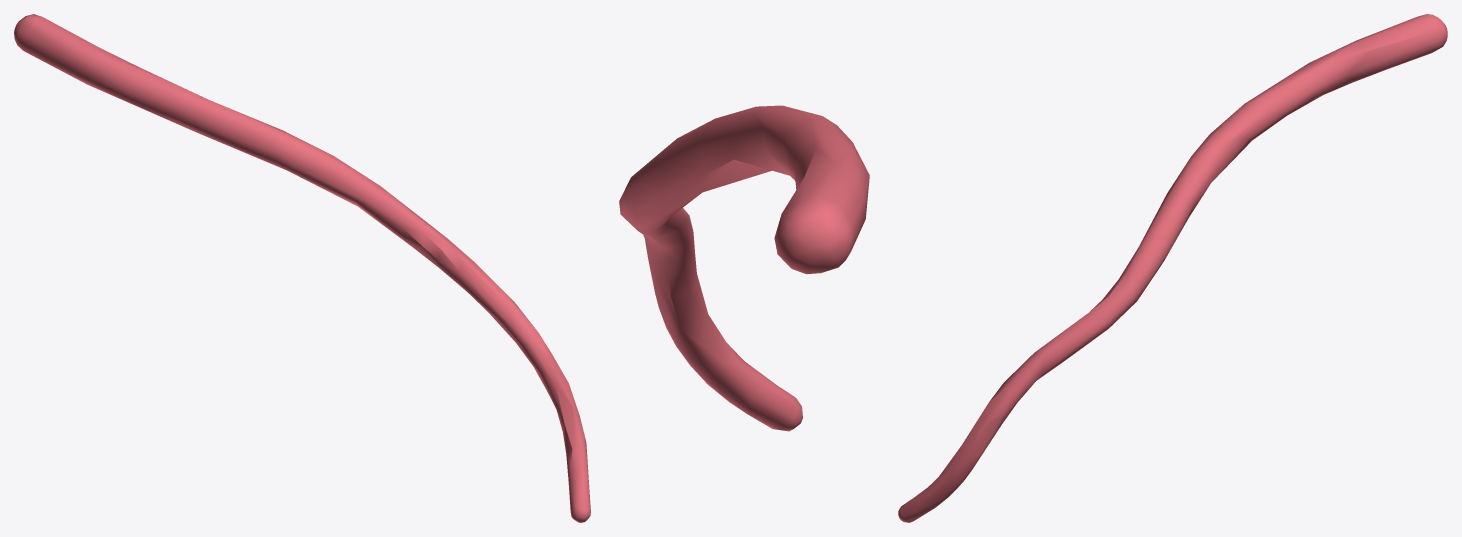
File: fma15804_fj5816.glb
The picture shows the model from 3 angles, left to right: view 1: azimuth 30°, elevation 25°; view 2: azimuth 150°, elevation 25°; view 3: azimuth 270°, elevation 25°; orthographic projection. The views are drawn at different scales.
Visible parts, largest first — view 1: FMA15804_FJ5816; view 2: FMA15804_FJ5816; view 3: FMA15804_FJ5816.
Part boxes in pixels (bbox=[...]): FMA15804_FJ5816: bbox=[14, 14, 590, 522]; FMA15804_FJ5816: bbox=[619, 105, 869, 431]; FMA15804_FJ5816: bbox=[898, 14, 1447, 522].
Bounding box in the file's own units: 0.0145 × 0.016 × 0.0215.
